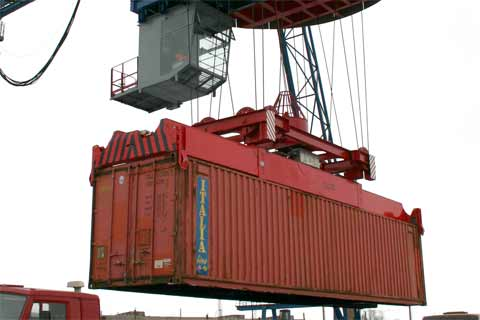container_door: (92, 152, 177, 287)
container_no_door: (202, 190, 364, 297)
